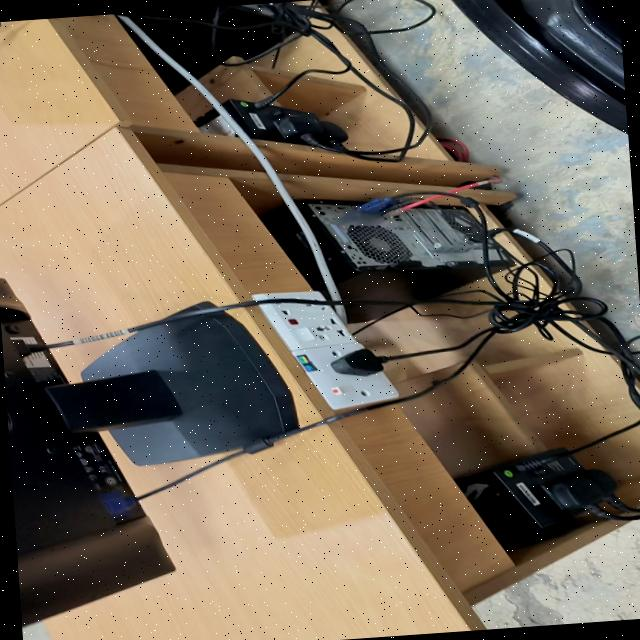Chair: (451, 0, 628, 135)
Cpu: (298, 200, 481, 281), (122, 5, 290, 77), (278, 213, 304, 254)
Monitor: (0, 306, 298, 626)
